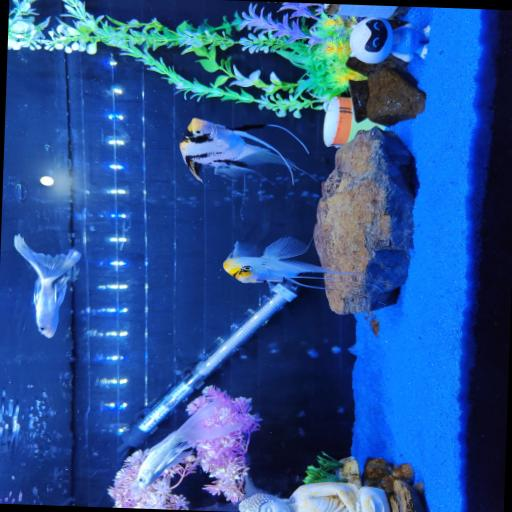Fish: (138, 401, 243, 488), (180, 118, 307, 181), (223, 237, 364, 289), (15, 235, 80, 337)
